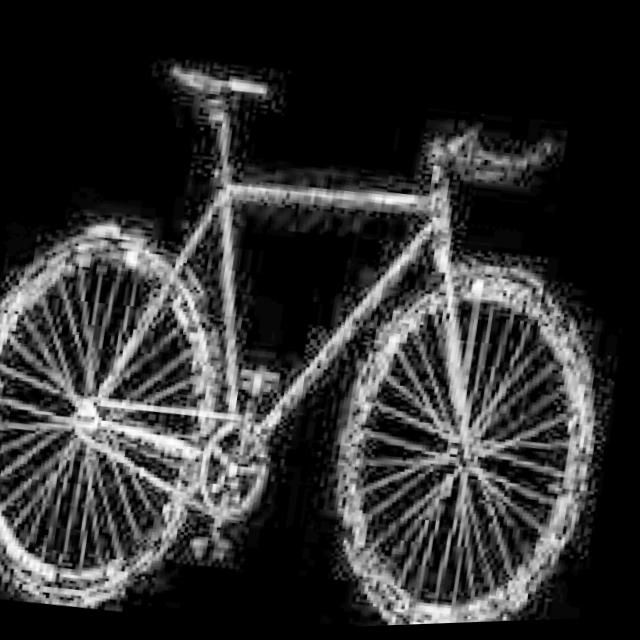motorcycle: (0, 24, 634, 640)
